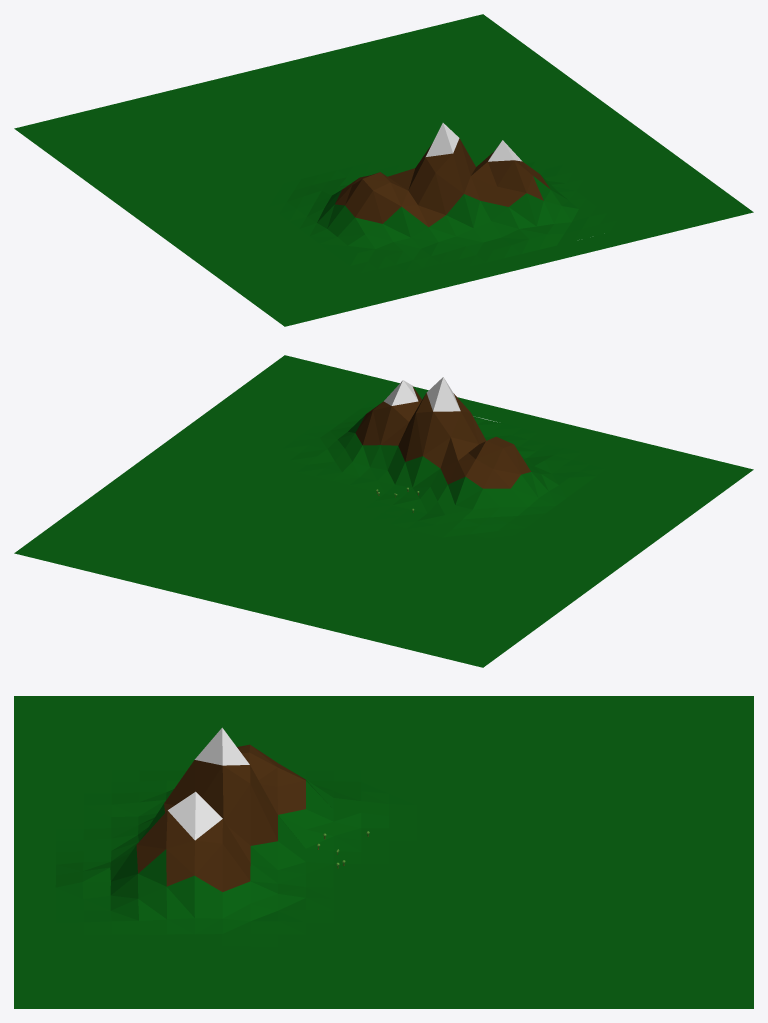
Rendered from terrain.glb.
3 renders of one model, top to bottom at view 1: azimuth 30°, elevation 25°; view 2: azimuth 150°, elevation 25°; view 3: azimuth 270°, elevation 25°, orthographic. The views are drawn at different scales.
Visible parts, largest first — view 1: terrain; view 2: terrain; view 3: terrain.
Boxes of the visible parts, left/top/right/bottom form: terrain: left=14, top=14, right=753, bottom=326; terrain: left=14, top=355, right=753, bottom=667; terrain: left=14, top=696, right=753, bottom=1008.
Size of the model in its own units: 800 by 150 by 800.
